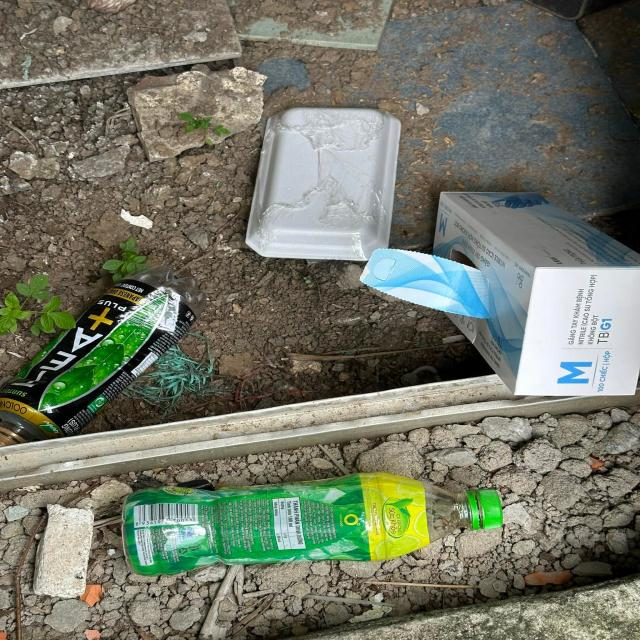bottle: (120, 472, 503, 578), (0, 264, 211, 447)
cardboard box: (436, 190, 640, 396)
foam box: (244, 107, 401, 260)
